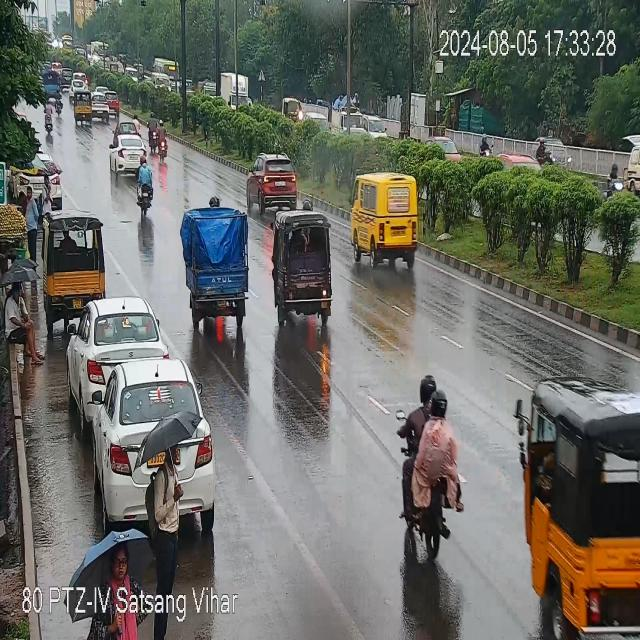2-wheelers: (393, 364, 465, 561), (131, 160, 158, 221), (145, 115, 173, 162), (40, 95, 64, 131), (606, 165, 624, 201), (535, 133, 550, 161), (478, 132, 493, 156)
auto: (513, 372, 640, 640), (178, 207, 251, 331), (270, 212, 334, 325), (22, 219, 90, 325), (72, 88, 91, 126), (282, 94, 300, 118)
bus: (349, 170, 420, 271)
car: (89, 362, 206, 496), (68, 295, 168, 406), (248, 153, 295, 209), (18, 153, 61, 203), (109, 136, 149, 176), (93, 86, 118, 122), (114, 118, 138, 137)
pedestrian: (156, 426, 186, 597), (5, 288, 49, 369), (0, 252, 39, 309), (102, 541, 143, 588), (23, 182, 39, 263), (41, 173, 53, 208)
